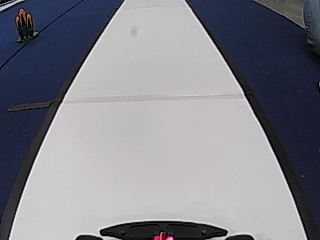corn: (15, 6, 38, 44)
